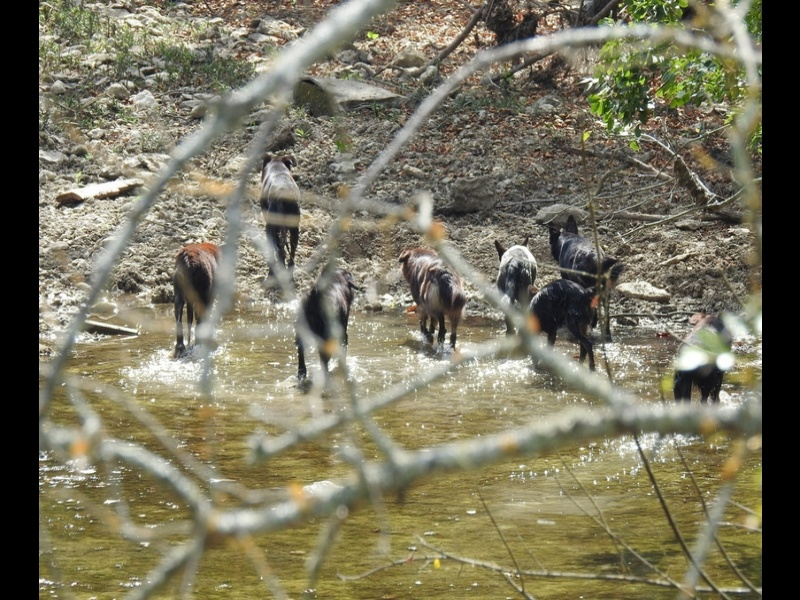dog: (547, 214, 621, 341), (526, 276, 605, 394), (398, 248, 478, 361), (292, 255, 357, 384), (171, 240, 229, 362), (664, 326, 734, 426), (260, 153, 303, 293), (493, 237, 543, 339)
